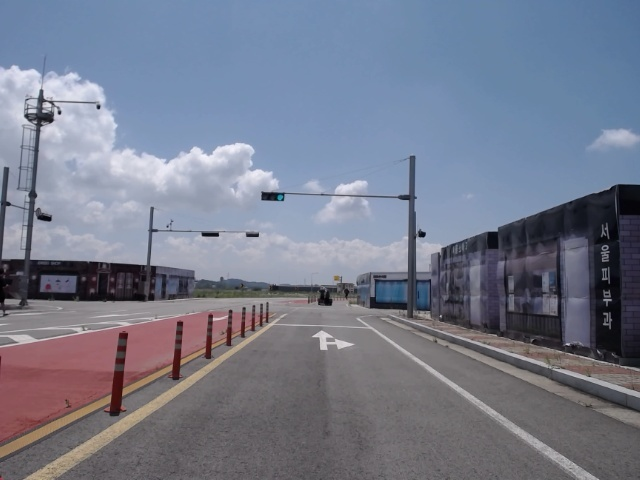green_3: (262, 192, 284, 201)
